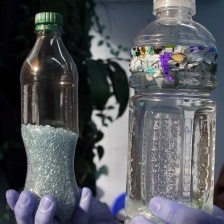bottle: (120, 0, 224, 224), (13, 9, 83, 221)
